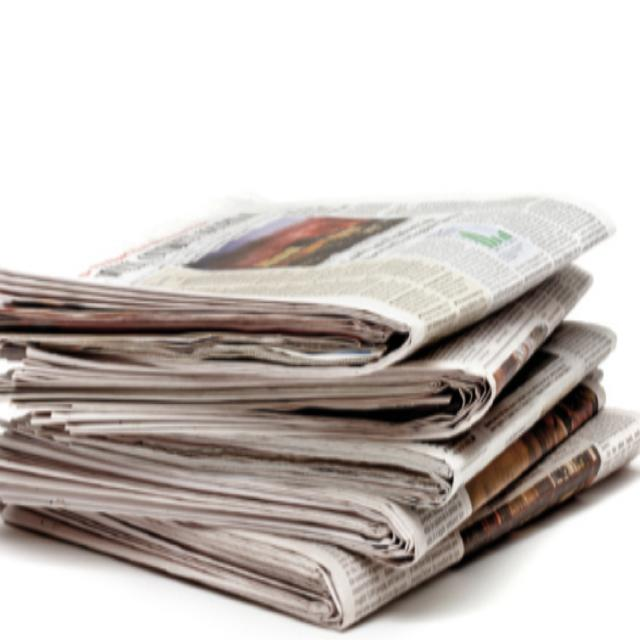biodegradable: (2, 82, 639, 636)
